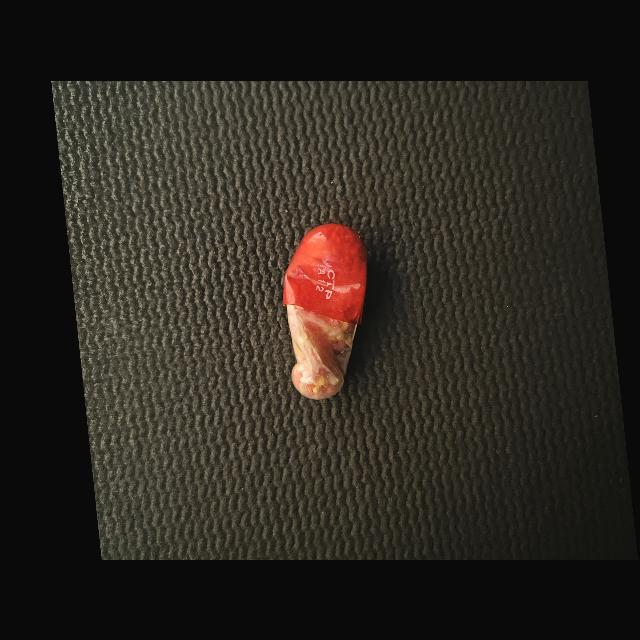Defective Capsule: (282, 223, 367, 399)
